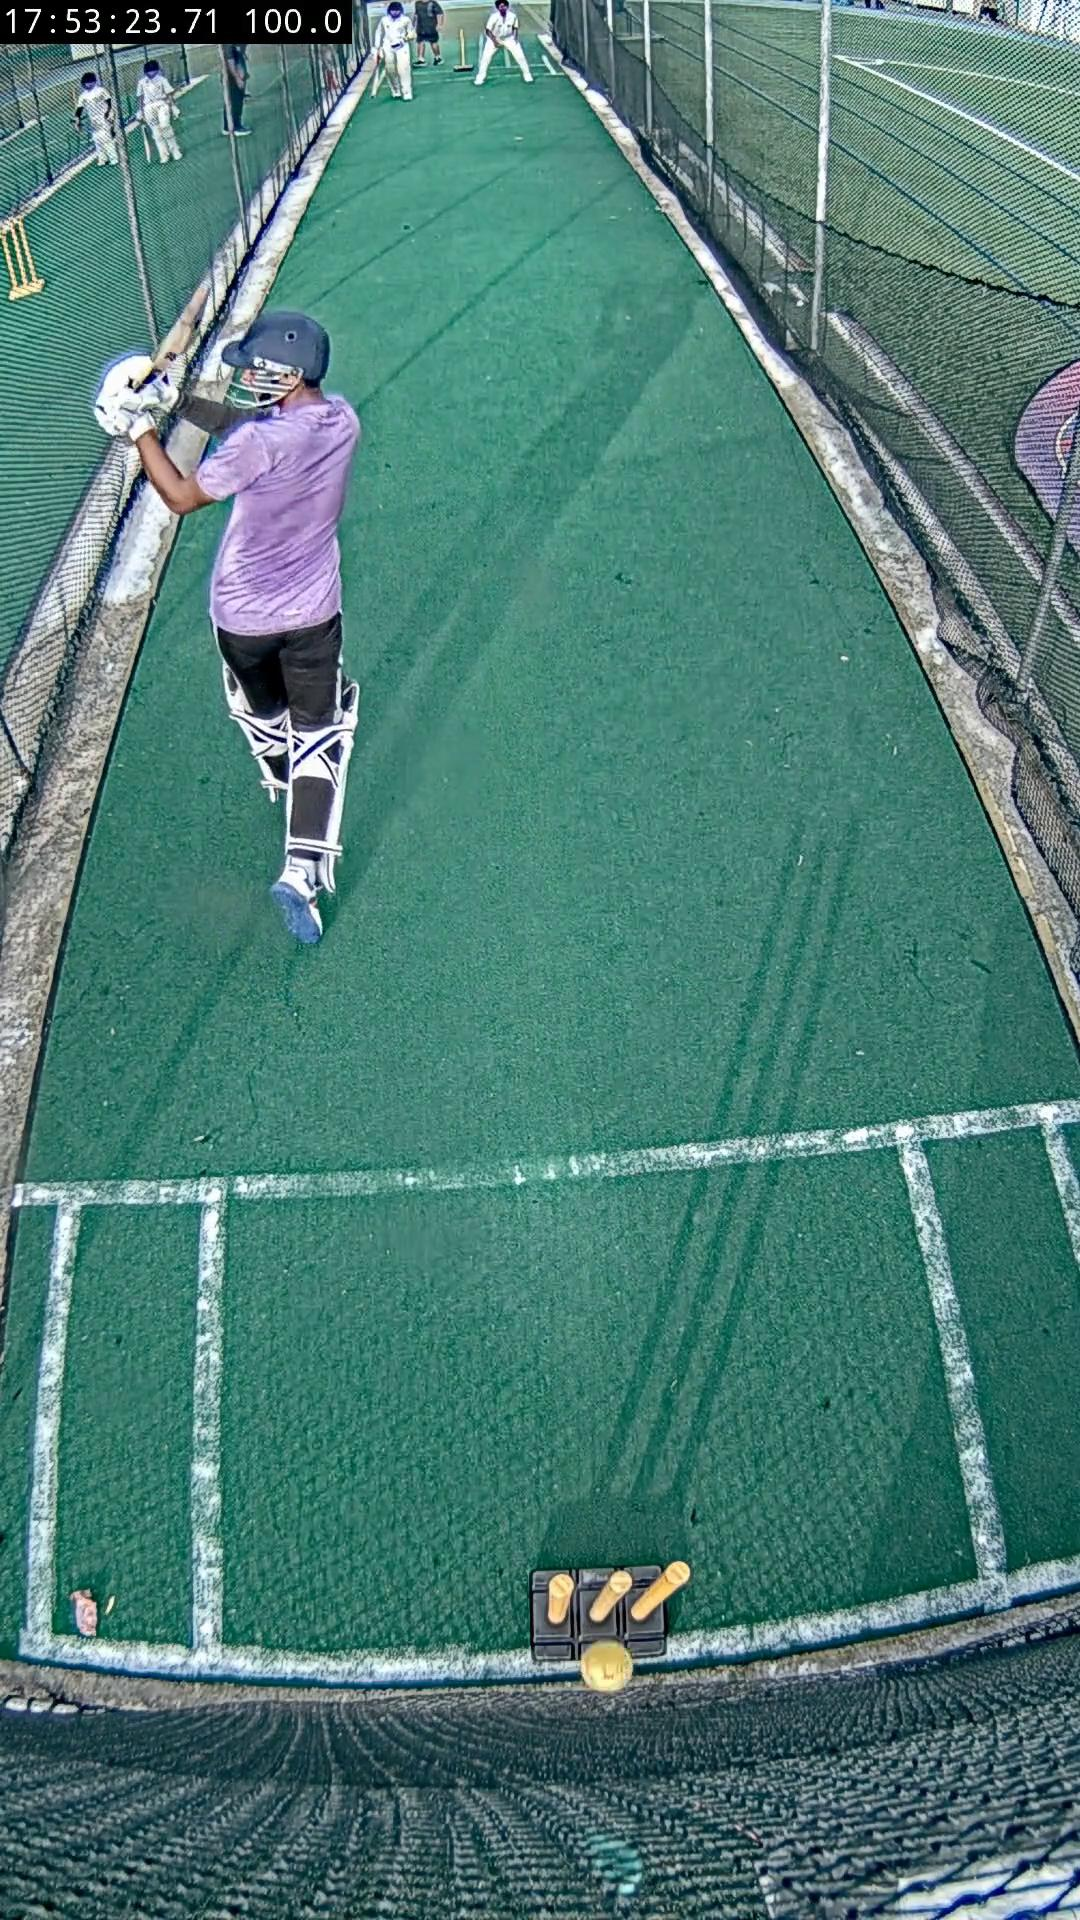ball: (582, 1639, 634, 1692)
bat: (133, 286, 212, 394)
gloves: (92, 355, 186, 442)
helmet: (222, 311, 330, 409)
pads: (319, 676, 356, 893), (224, 667, 278, 799)
stumps: (529, 1564, 690, 1662)
